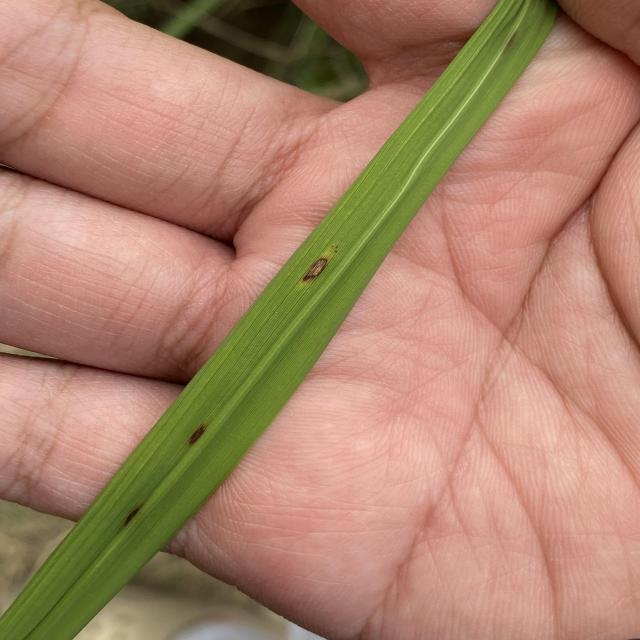Dom nau: (298, 256, 332, 284), (186, 422, 210, 450), (120, 507, 141, 528)
